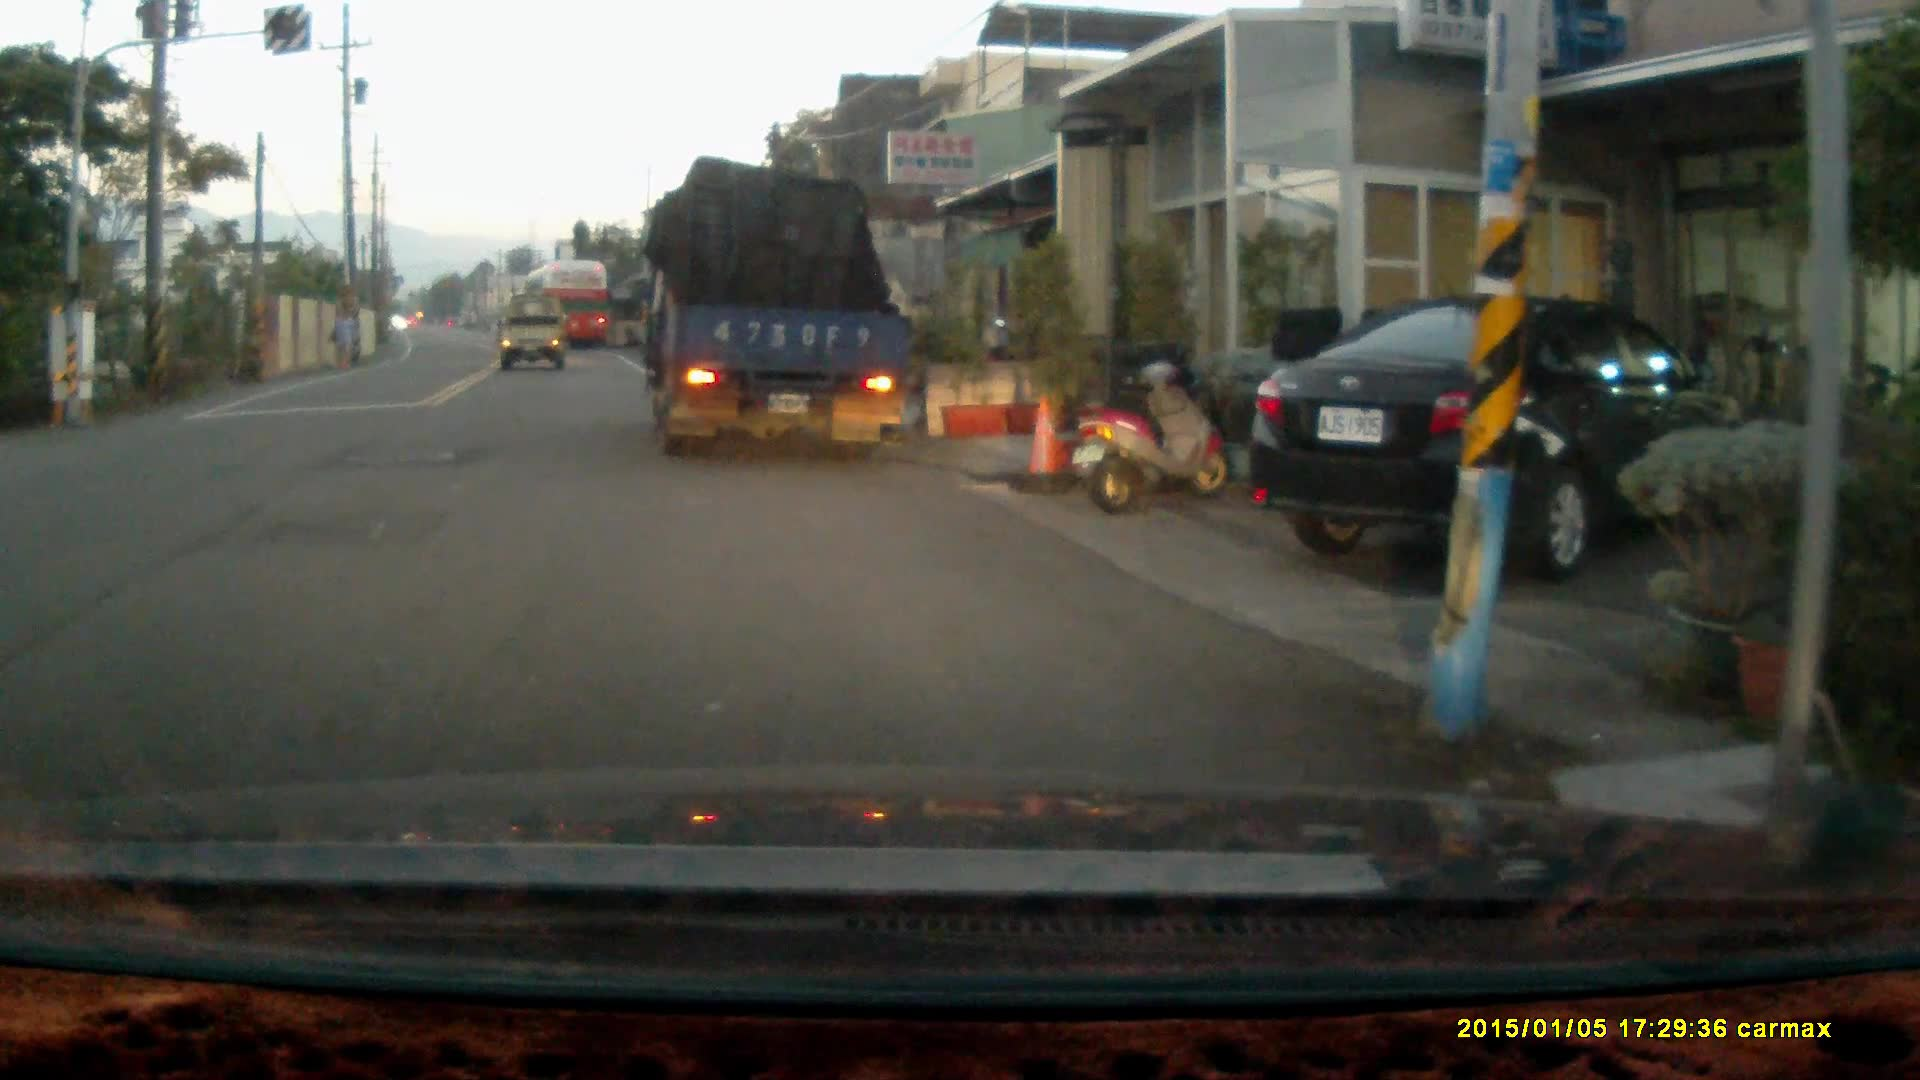pedestrian: (329, 304, 359, 371)
vehicle: (1238, 284, 1752, 578), (644, 161, 928, 451), (523, 259, 618, 356), (498, 297, 570, 372)
